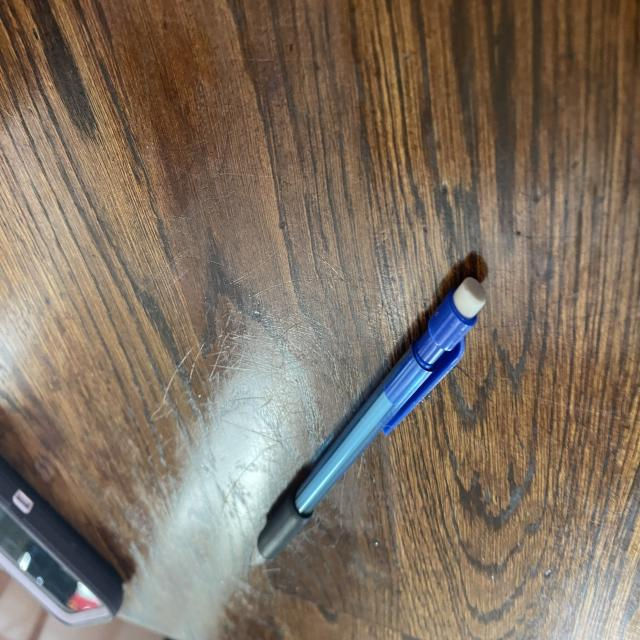mechanical-pencils: (246, 274, 489, 575)
